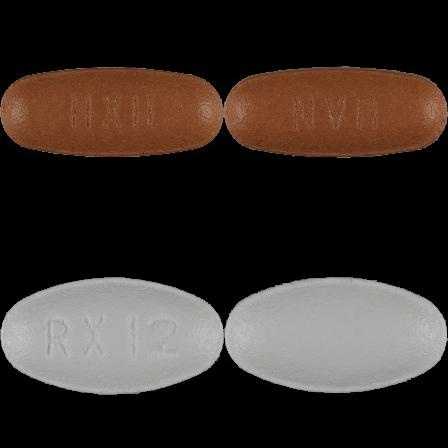68258-6973: (0, 0, 224, 224)
